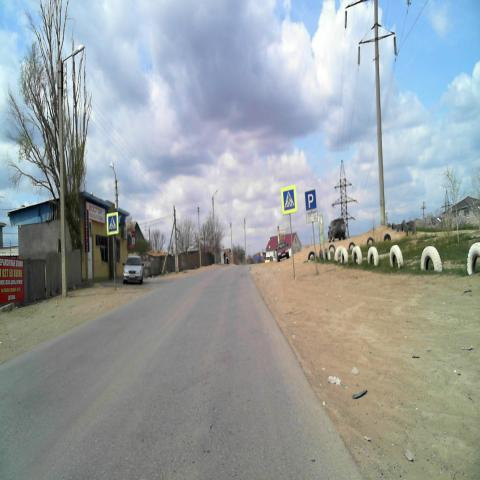6_4: (305, 189, 317, 211)
